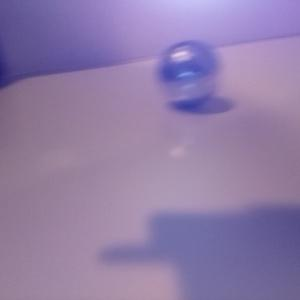alive_ball: (157, 40, 219, 107)
